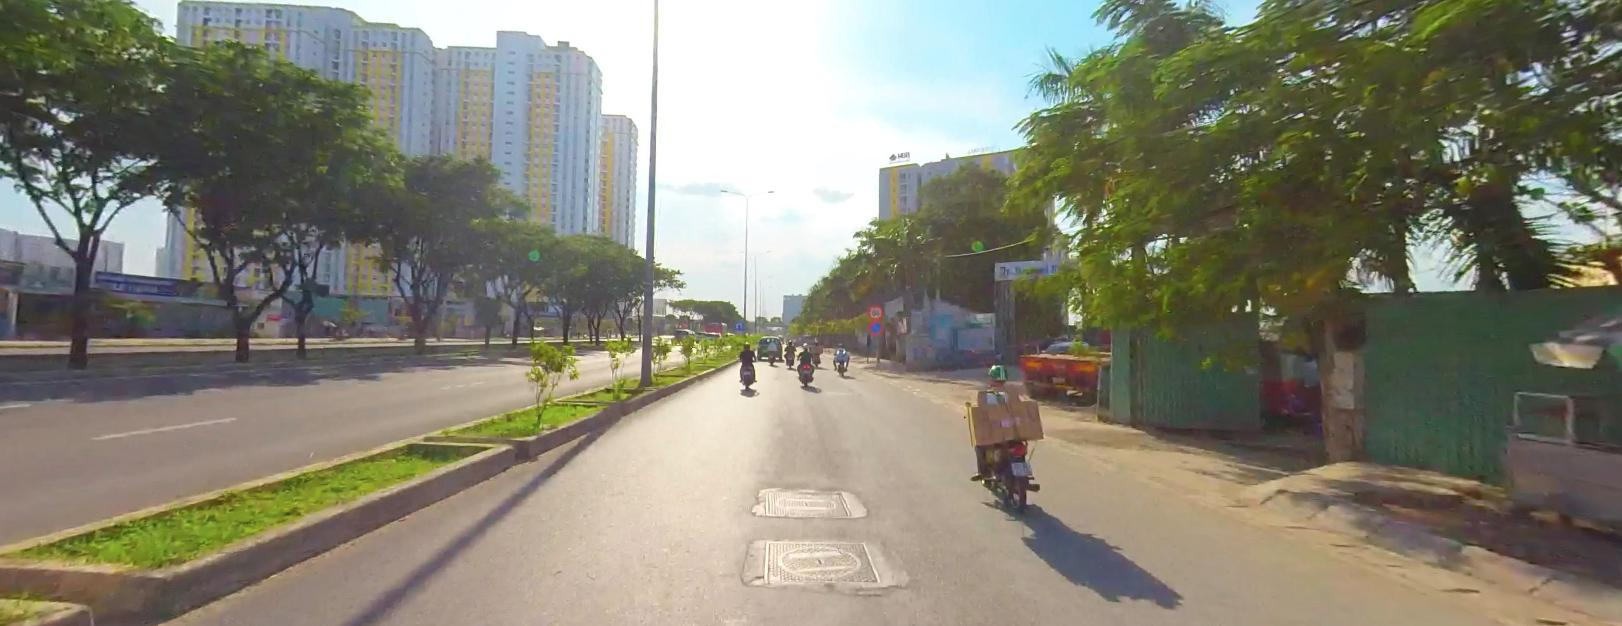Cam dung va do: (869, 319, 883, 333)
Gioi han toc do: (868, 304, 881, 317)
